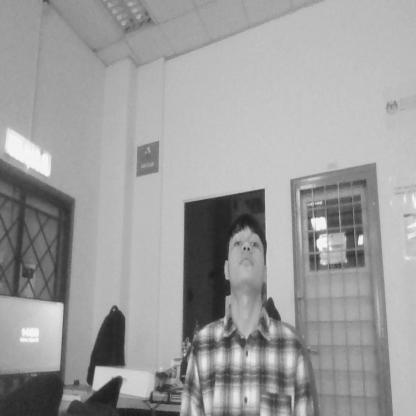Open-Eyes: (229, 230, 264, 253)
